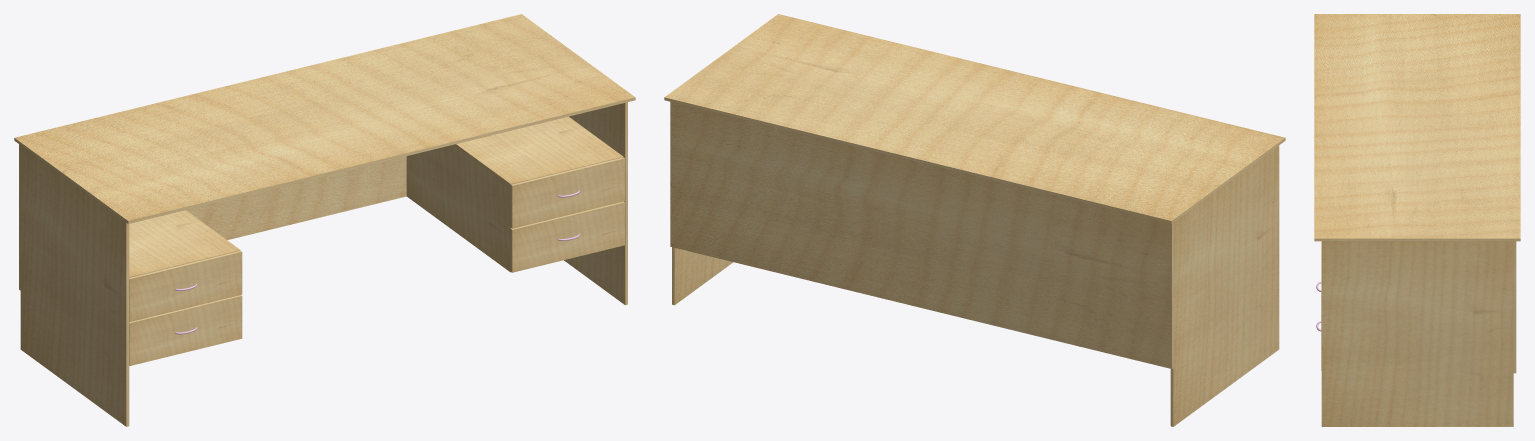
Rendered from officeDesk.fbx.
3 views of the same model, side by side, from view 1: azimuth 30°, elevation 25°; view 2: azimuth 150°, elevation 25°; view 3: azimuth 270°, elevation 25° (orthographic). The views are drawn at different scales.
Visible parts, largest first — view 1: table; view 2: table; view 3: table.
Part boxes in pixels (<box>): table: <box>14,14,635,426</box>; table: <box>664,14,1285,426</box>; table: <box>1314,14,1520,426</box>.
Size of the model in its own units: 3.95 by 1.56 by 1.54.
Materials: 2 (1 with a texture image).
